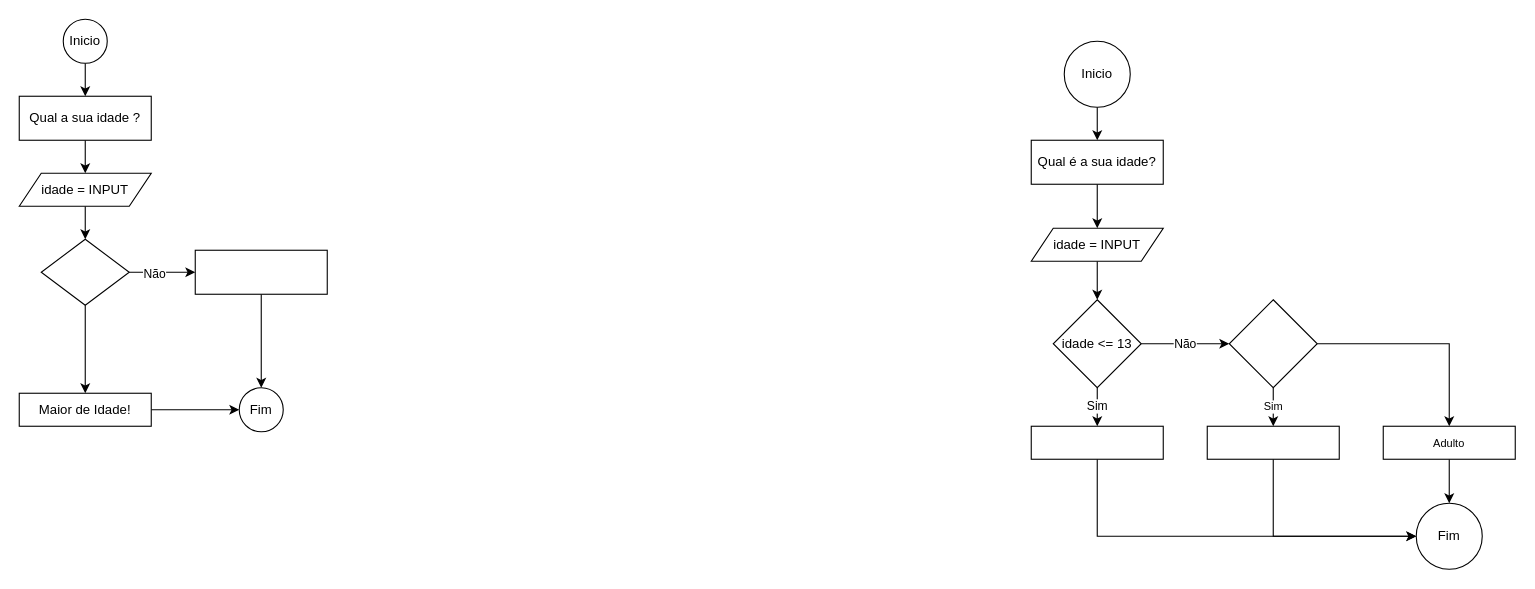
Some shapes in this 1535 by 589 pixel diagram are drawn without their labels. The centre of each missing label's shape, as x and y in pixels:
"Adolescentes" goes at (1272,442).
"Criança" goes at (1096,442).
"idade > 13 e idade < 18" goes at (1272,343).
"idade >= 18" goes at (84,271).
"Menor de Idade!" goes at (260,271).
